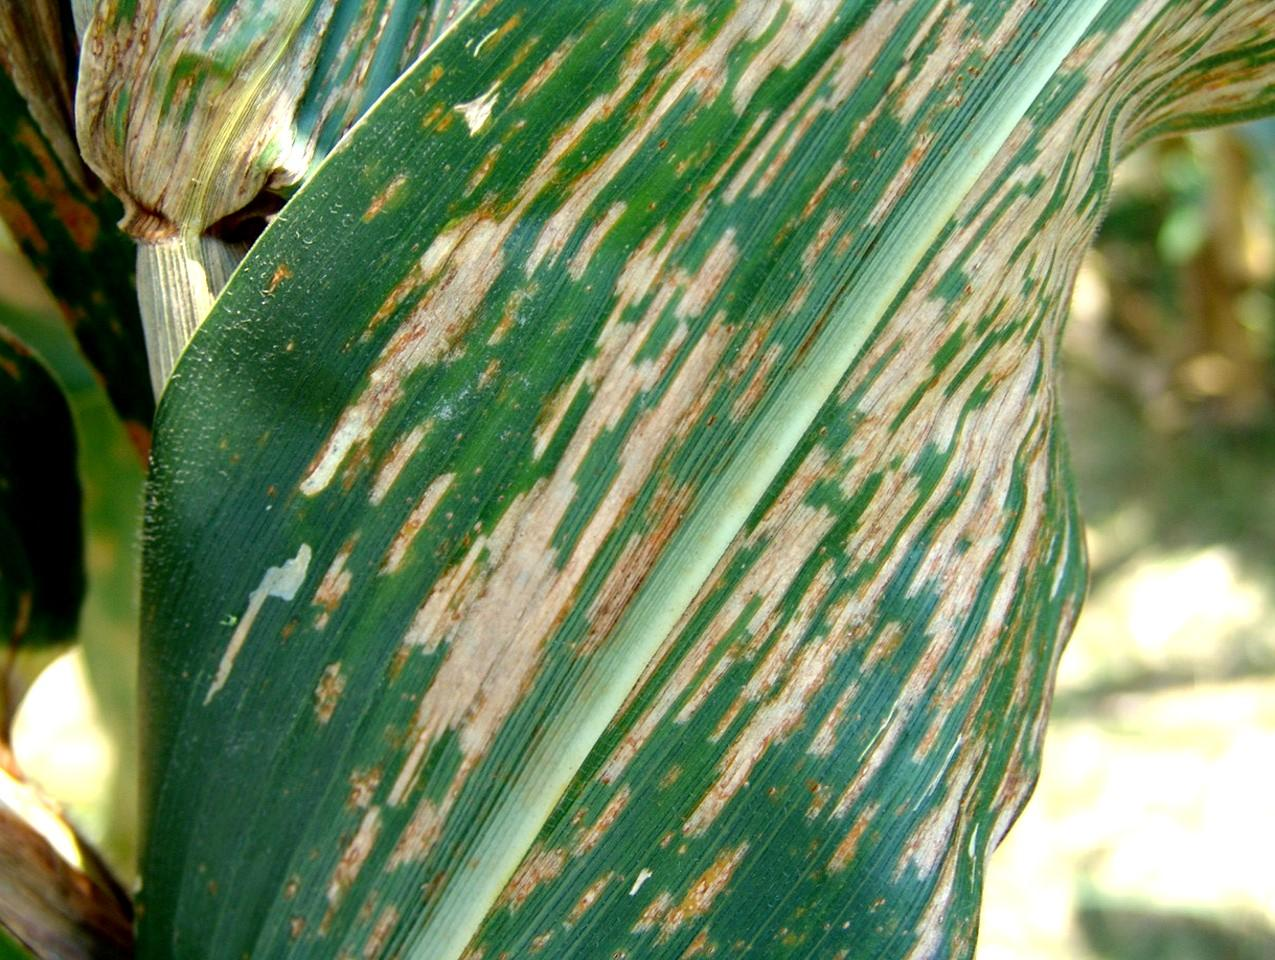Corn Gray leaf spot: (203, 2, 1245, 960)
